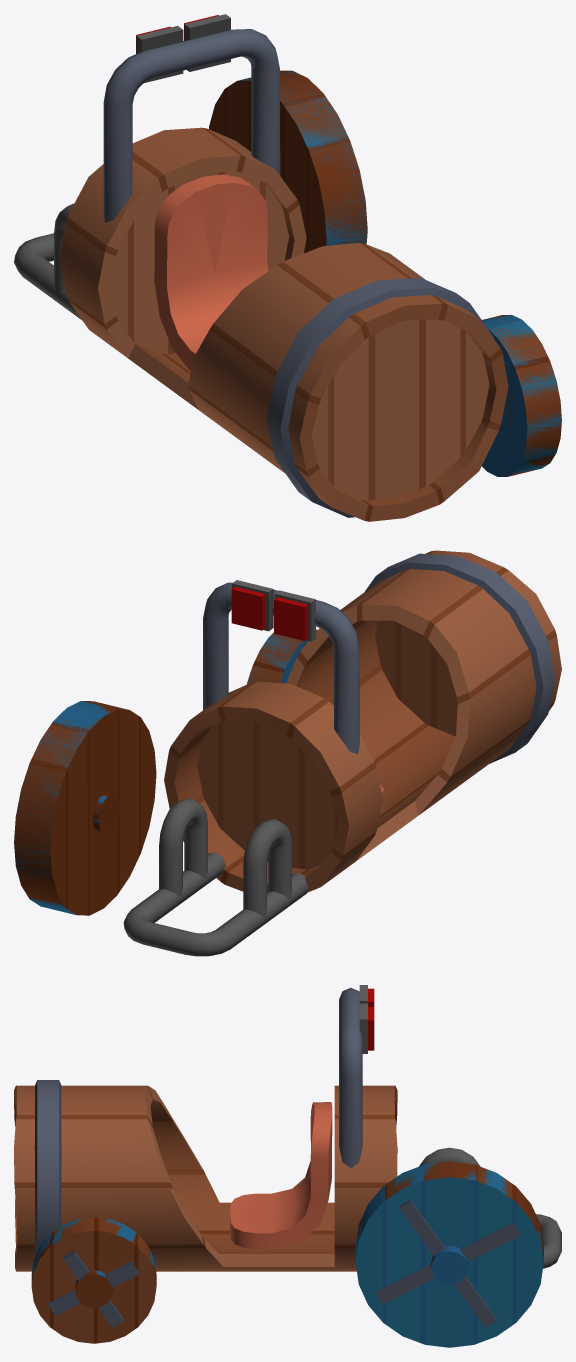
Rendered from Bochka.fbx.
3 renders of one model, top to bottom at view 1: azimuth 30°, elevation 25°; view 2: azimuth 150°, elevation 25°; view 3: azimuth 270°, elevation 25°, orthographic. The views are drawn at different scales.
Parts seen in each view (by area): view 1: Bochka 01 Kuzov Bochka, Bochka 01 Koleso Big Back, Bochka 02 Koleso Small Front, Bochka 01 Koleso Small Front, Bochka 02 Koleso Big Back; view 2: Bochka 01 Kuzov Bochka, Bochka 01 Koleso Big Back, Bochka 02 Koleso Big Back, Bochka 01 Koleso Small Front, Bochka 02 Koleso Small Front; view 3: Bochka 01 Kuzov Bochka, Bochka 02 Koleso Big Back, Bochka 01 Koleso Small Front, Bochka 01 Koleso Big Back, Bochka 02 Koleso Small Front.
Boxes of the visible parts, x1=… form: Bochka 01 Kuzov Bochka: x1=14, y1=14, x2=508, y2=521; Bochka 01 Koleso Big Back: x1=209, y1=70, x2=367, y2=253; Bochka 02 Koleso Small Front: x1=482, y1=315, x2=561, y2=476; Bochka 01 Koleso Small Front: x1=482, y1=315, x2=561, y2=476; Bochka 02 Koleso Big Back: x1=237, y1=70, x2=367, y2=245; Bochka 01 Kuzov Bochka: x1=123, y1=550, x2=561, y2=956; Bochka 01 Koleso Big Back: x1=14, y1=701, x2=156, y2=915; Bochka 02 Koleso Big Back: x1=14, y1=701, x2=109, y2=914; Bochka 01 Koleso Small Front: x1=247, y1=629, x2=317, y2=684; Bochka 02 Koleso Small Front: x1=247, y1=633, x2=308, y2=684; Bochka 01 Kuzov Bochka: x1=14, y1=985, x2=561, y2=1271; Bochka 02 Koleso Big Back: x1=355, y1=1163, x2=543, y2=1347; Bochka 01 Koleso Small Front: x1=31, y1=1217, x2=156, y2=1343; Bochka 01 Koleso Big Back: x1=357, y1=1161, x2=543, y2=1320; Bochka 02 Koleso Small Front: x1=31, y1=1219, x2=155, y2=1303.
Bounding box in the file's own units: 1.41 × 1.56 × 2.8.
